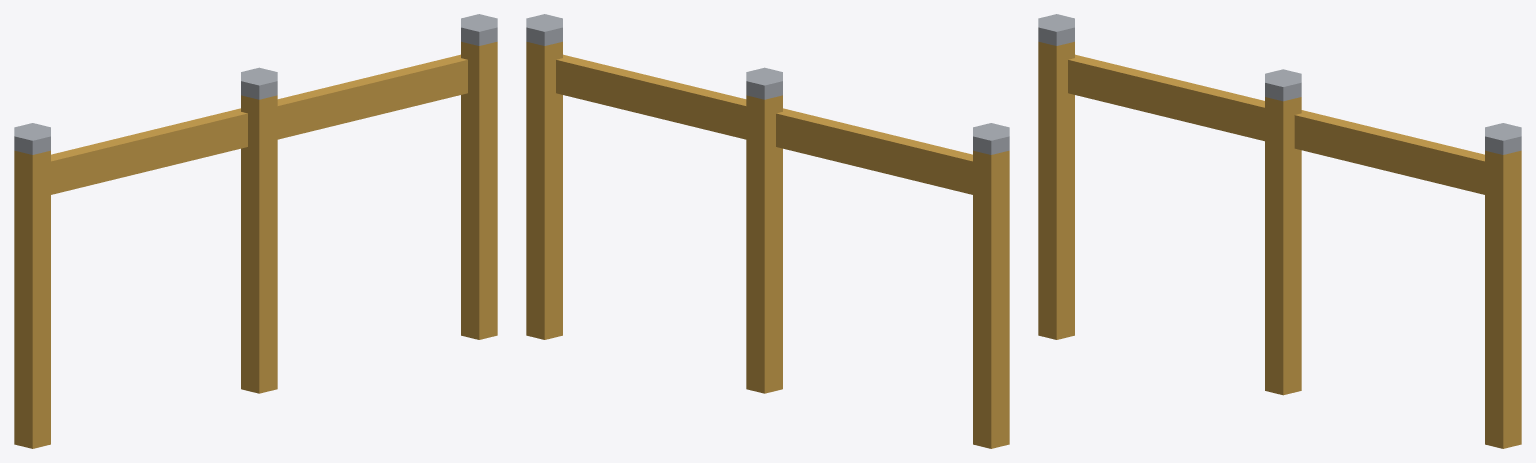
File: SM_Prop_Pole_Barrier_03.fbx
3 renders of one model, left to right at view 1: azimuth 30°, elevation 25°; view 2: azimuth 150°, elevation 25°; view 3: azimuth 330°, elevation 25°, orthographic.
Visible parts, largest first — view 1: SM_Prop_Pole_Barrier_03; view 2: SM_Prop_Pole_Barrier_03; view 3: SM_Prop_Pole_Barrier_03.
Part boxes in pixels (x1,y1,x2,y2): SM_Prop_Pole_Barrier_03: (14, 14, 497, 448); SM_Prop_Pole_Barrier_03: (526, 14, 1009, 448); SM_Prop_Pole_Barrier_03: (1038, 14, 1521, 448).
Bounding box in the file's own units: 216 × 132 × 14.19.
